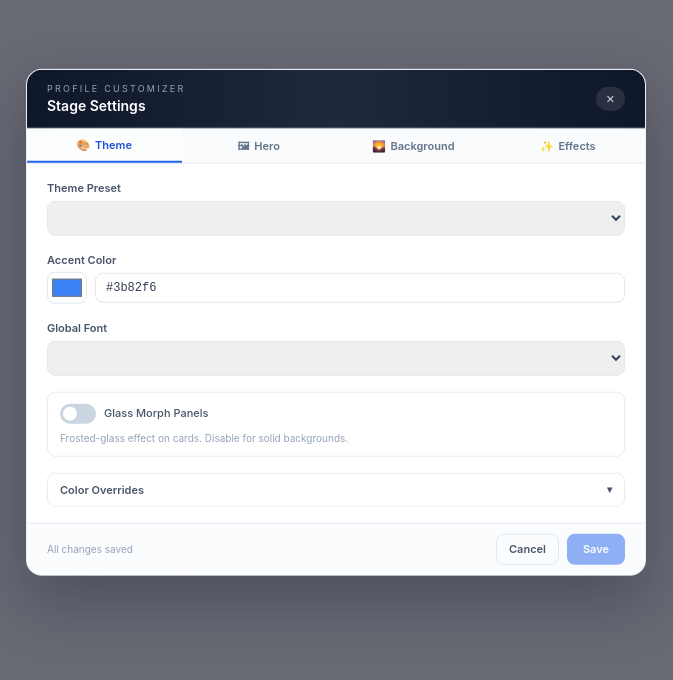
Test case: SocialStageSettingsSidebar › hides grain/blur sliders behind Advanced toggle for hero background
Click the button "🖼 Hero" at (259, 146), box [182,128,336,163]
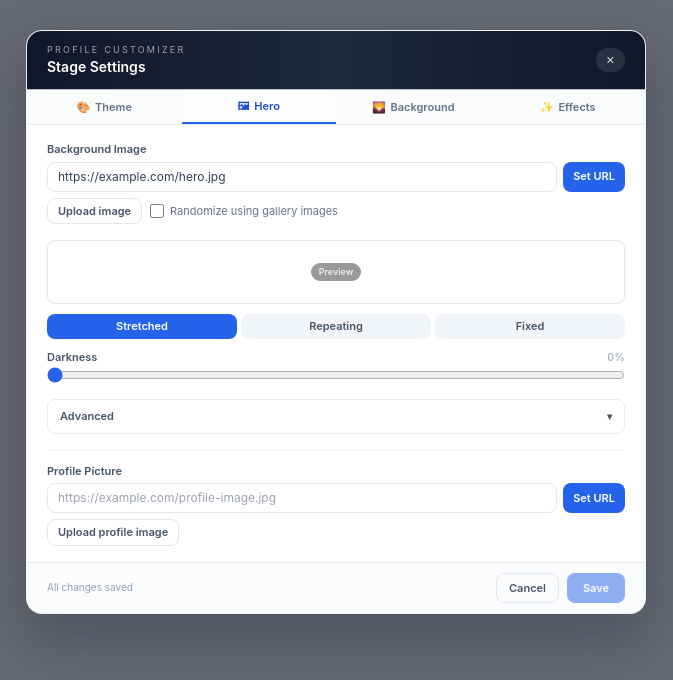
Now the button with test id "hero-advanced-toggle" is shown
Click the button with test id "hero-advanced-toggle" at (87, 416), box [48,400,624,432]
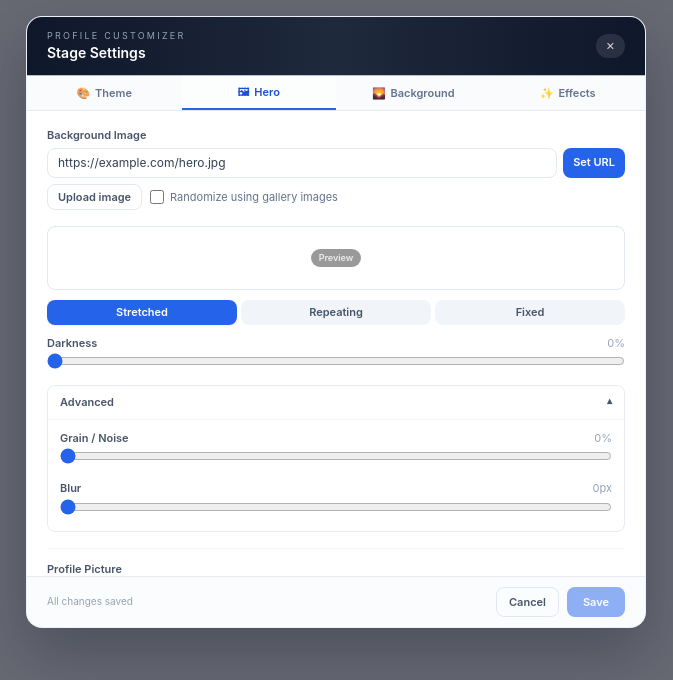
Now the element with test id "hero-advanced-toggle-content" is shown, box [48,418,624,530]
Now the slider with test id "hero-grain-slider" is shown, box [60,448,612,464]
Now the slider with test id "hero-blur-slider" is shown, box [60,498,612,514]
